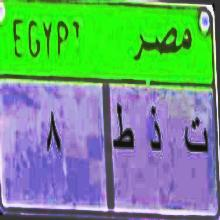8: (42, 105, 68, 162)
Taa: (112, 89, 139, 166)
taa: (180, 112, 210, 164)
zaal: (144, 98, 166, 161)
